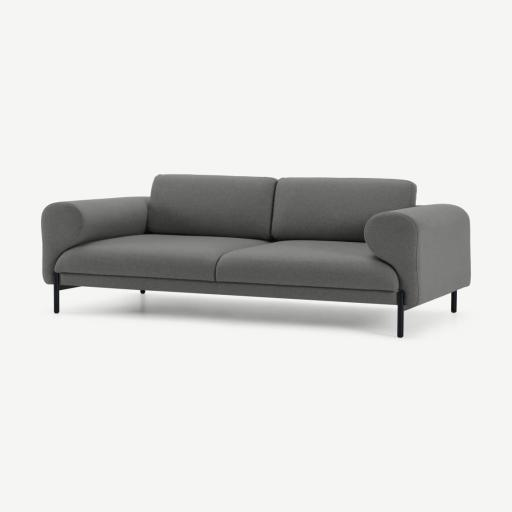back_cushion: (148, 175, 415, 242)
base: (61, 274, 396, 304)
left_arm: (364, 204, 470, 306)
legs: (53, 274, 77, 313), (397, 291, 404, 338), (451, 291, 457, 313)
right_arm: (42, 198, 148, 283)
seat_cushion: (57, 234, 398, 290)
two-seater: (0, 0, 511, 512)
